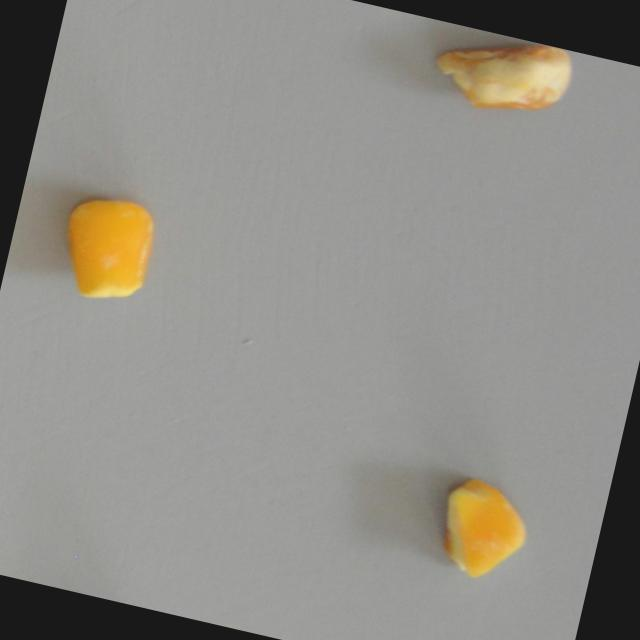dañado: (423, 20, 575, 128)
pelicula: (48, 185, 161, 308), (428, 472, 537, 588)
